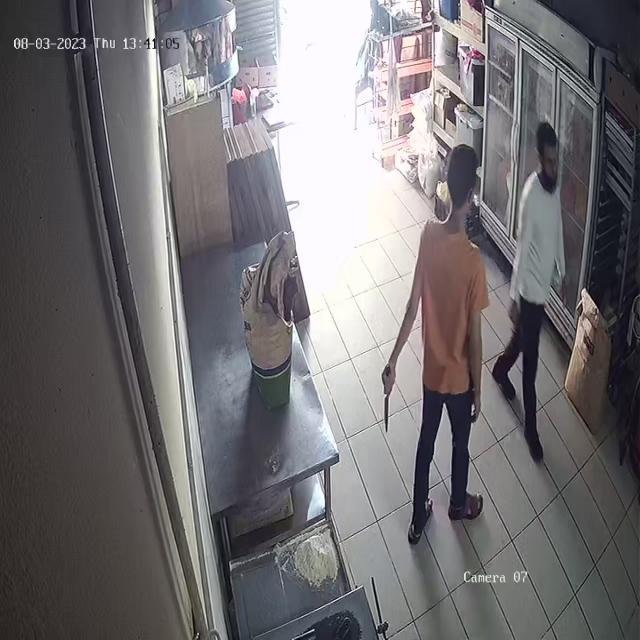Knife: (374, 369, 404, 445)
